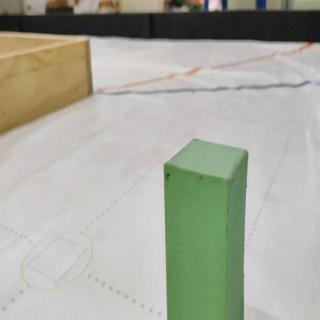greenbox: (163, 135, 248, 320)
